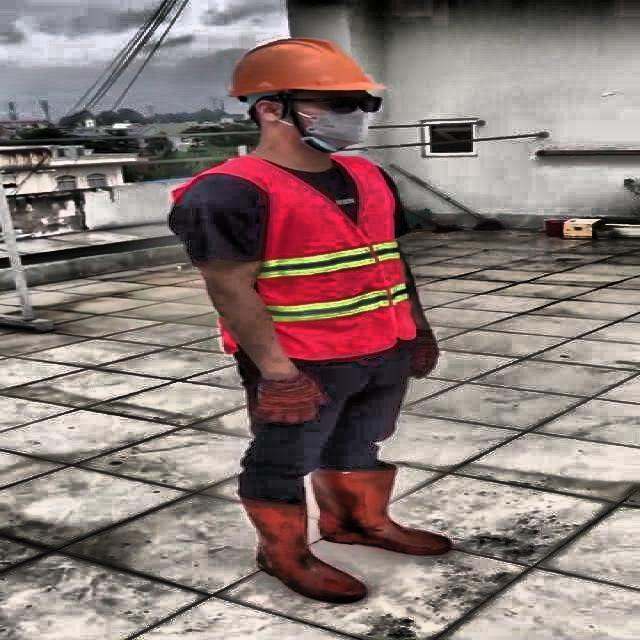safety_jacket: (171, 152, 414, 358)
